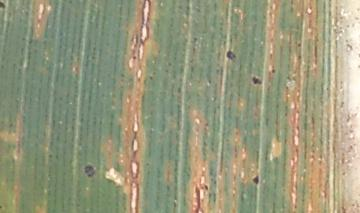tarspot: (83, 164, 96, 179), (250, 75, 264, 87), (225, 49, 236, 61), (250, 174, 260, 185), (146, 74, 154, 82), (202, 183, 209, 192), (1, 1, 7, 10), (296, 41, 302, 50), (296, 53, 302, 61), (131, 54, 137, 62), (270, 67, 276, 74)
